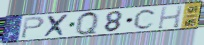8: (103, 9, 126, 33)
C: (132, 8, 158, 30)
H: (156, 4, 185, 30)
P: (20, 15, 47, 40)
Q: (76, 10, 100, 36)
X: (43, 13, 72, 38)
